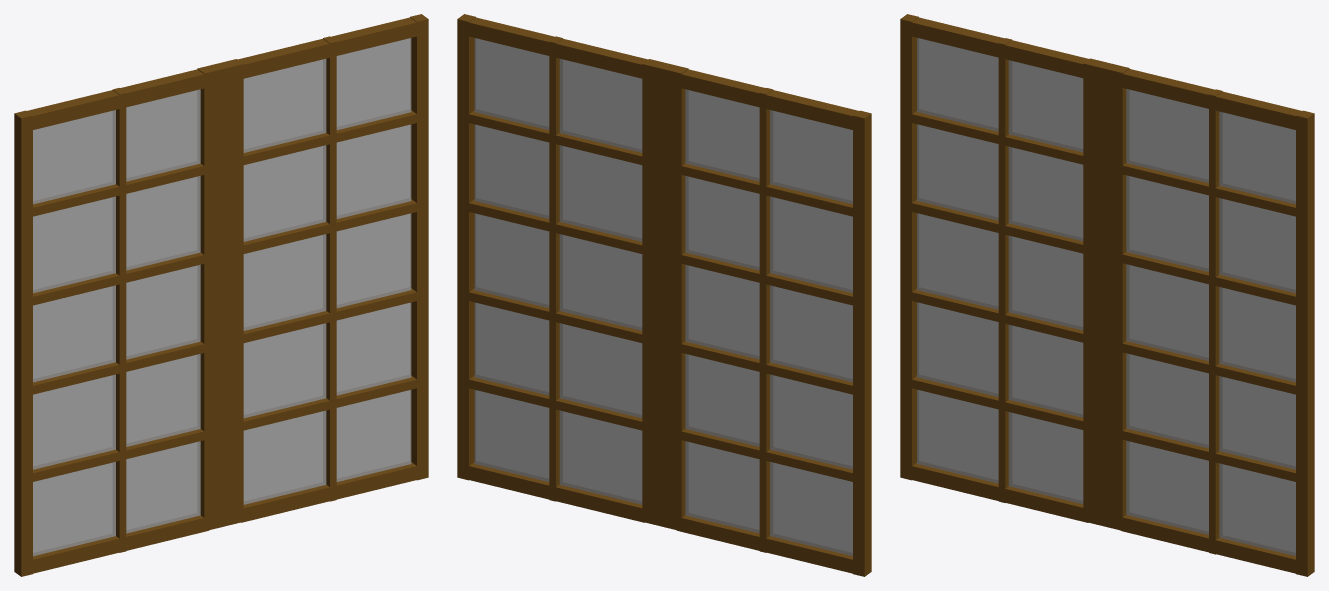
The model's file is window.fbx.
The picture shows the model from 3 angles, left to right: view 1: azimuth 30°, elevation 25°; view 2: azimuth 150°, elevation 25°; view 3: azimuth 330°, elevation 25°; orthographic projection.
Visible parts, largest first — view 1: Plane, Box, Box9, Box1, Box16, Box8, Box7, Box15, Box2, Box10, Box3, Box4 (+6 smaller); view 2: Plane, Box, Box9, Box1, Box16, Box8, Box7, Box15, Box2, Box10, Box3, Box4 (+6 smaller); view 3: Plane, Box, Box1, Box9, Box16, Box8, Box7, Box15, Box10, Box2, Box5, Box6 (+6 smaller).
Part boxes in pixels (bbox=[...]): Plane: bbox=[33, 38, 411, 556]; Box: bbox=[197, 59, 243, 531]; Box9: bbox=[14, 110, 32, 576]; Box1: bbox=[410, 14, 428, 480]; Box16: bbox=[112, 88, 126, 552]; Box8: bbox=[323, 36, 336, 501]; Box7: bbox=[238, 17, 419, 78]; Box15: bbox=[27, 69, 209, 130]; Box2: bbox=[241, 462, 419, 522]; Box10: bbox=[31, 515, 209, 573]; Box3: bbox=[241, 375, 419, 430]; Box4: bbox=[241, 288, 419, 343]; Plane: bbox=[474, 38, 852, 556]; Box: bbox=[642, 59, 688, 531]; Box9: bbox=[853, 110, 871, 576]; Box1: bbox=[457, 14, 475, 480]; Box16: bbox=[759, 88, 773, 552]; Box8: bbox=[549, 36, 562, 501]; Box7: bbox=[466, 17, 647, 78]; Box15: bbox=[676, 69, 858, 130]; Box2: bbox=[466, 462, 644, 522]; Box10: bbox=[677, 515, 854, 573]; Box3: bbox=[466, 375, 644, 430]; Box4: bbox=[466, 288, 644, 343]; Plane: bbox=[917, 38, 1295, 556]; Box: bbox=[1083, 58, 1129, 530]; Box1: bbox=[1296, 110, 1314, 576]; Box9: bbox=[900, 14, 918, 480]; Box16: bbox=[998, 38, 1011, 502]; Box8: bbox=[1209, 89, 1222, 554]; Box7: bbox=[1120, 69, 1301, 130]; Box15: bbox=[910, 17, 1088, 78]; Box10: bbox=[910, 462, 1088, 522]; Box2: bbox=[1121, 515, 1298, 573]; Box5: bbox=[1120, 252, 1298, 306]; Box6: bbox=[1122, 163, 1298, 217].
Bounding box in the file's own units: 2.29 × 2.47 × 0.0682.
